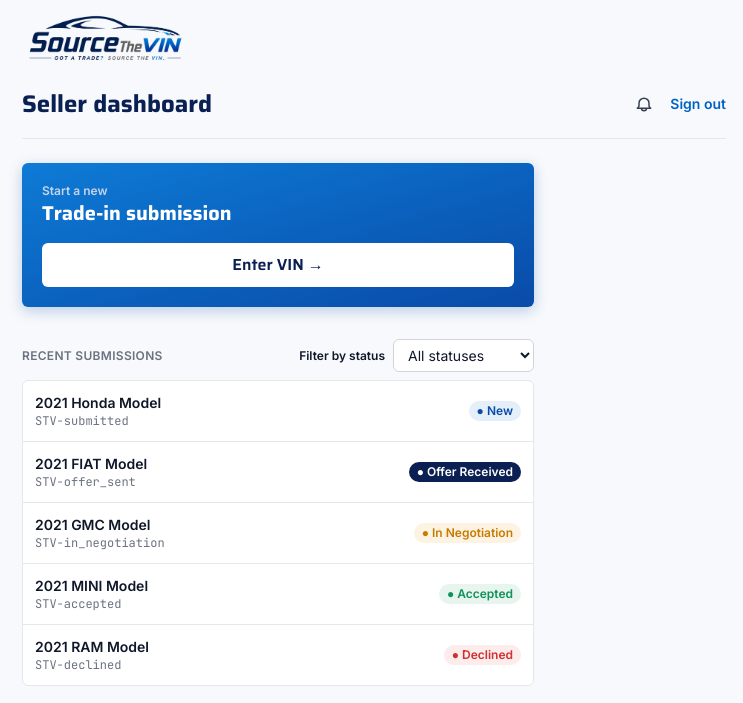
Test: Dashboard › shows a no-match state when no recent submission has the selected status
Select "Draft" in the dropdown labelled "Filter by status" at (464, 356), box x1=393 y1=339 x2=534 y2=372
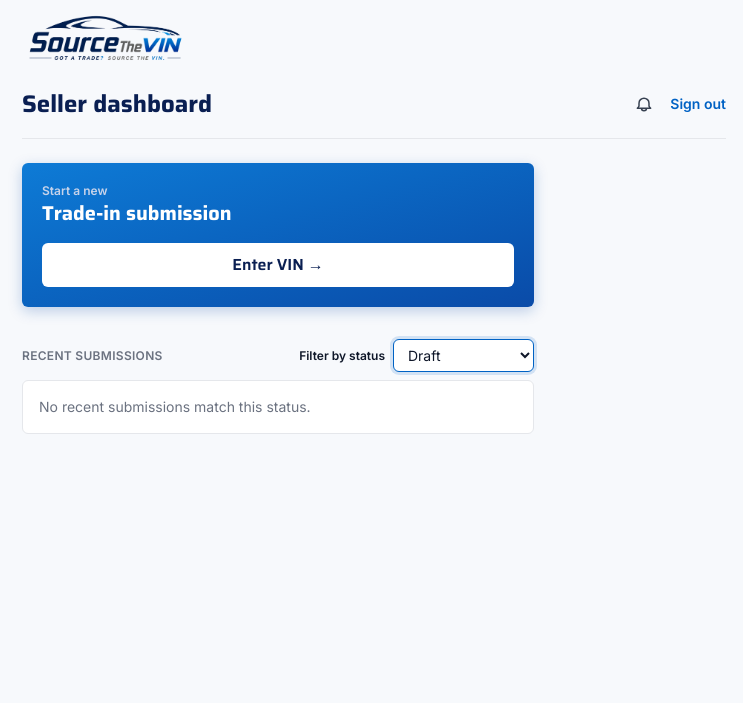
Check: the text "No recent submissions match this status." is shown, box x1=22 y1=380 x2=534 y2=434
